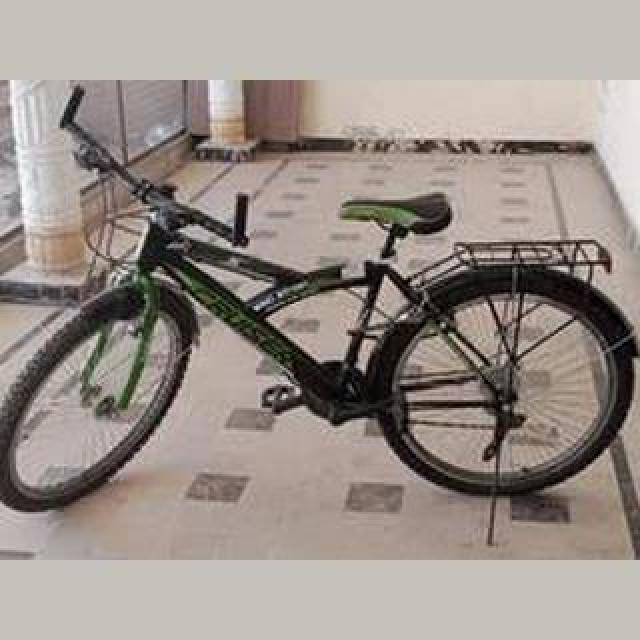Person: (0, 83, 640, 541)
